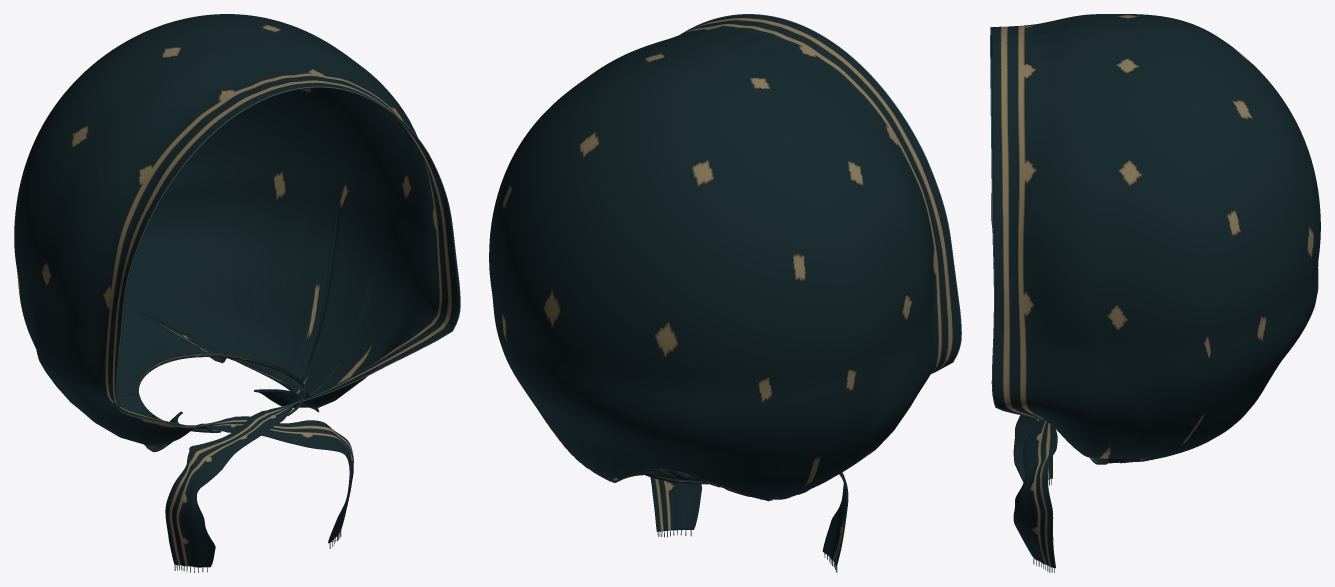
The model's file is Feminine-Feminine-ponytail-tank-pashmina251-headgear-71c2f22c.glb.
3 renders of one model, left to right at view 1: azimuth 30°, elevation 25°; view 2: azimuth 150°, elevation 25°; view 3: azimuth 270°, elevation 25°, orthographic. The views are drawn at different scales.
Parts seen in each view (by area): view 1: 226 headgear / Headwear / continuous woven pashmina239, 226 headgear / Headwear / face edge239; view 2: 226 headgear / Headwear / continuous woven pashmina239, 226 headgear / Headwear / face edge239; view 3: 226 headgear / Headwear / continuous woven pashmina239, 226 headgear / Headwear / face edge239.
Boxes of the visible parts, x1,y1,x2,y2 form: 226 headgear / Headwear / continuous woven pashmina239: (14,14,459,567); 226 headgear / Headwear / face edge239: (116,86,460,427); 226 headgear / Headwear / continuous woven pashmina239: (489,14,960,566); 226 headgear / Headwear / face edge239: (680,14,961,373); 226 headgear / Headwear / continuous woven pashmina239: (991,14,1320,568); 226 headgear / Headwear / face edge239: (990,27,1044,419).
Size of the model in its own units: 1.07 by 1.4 by 0.8393.
Materials: 3 (1 with a texture image).
